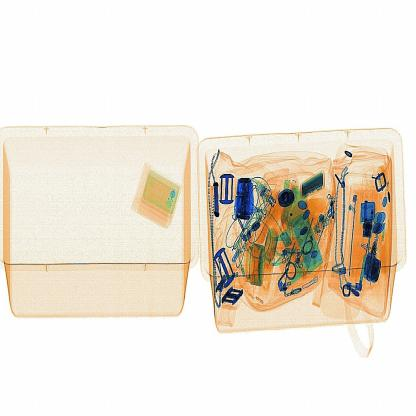scissors: (231, 170, 260, 228)
